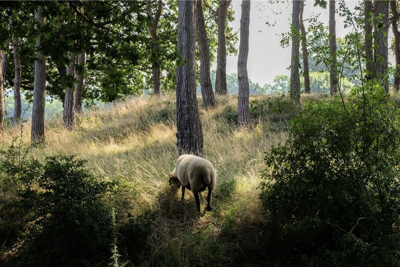koyun: (171, 153, 215, 213)
